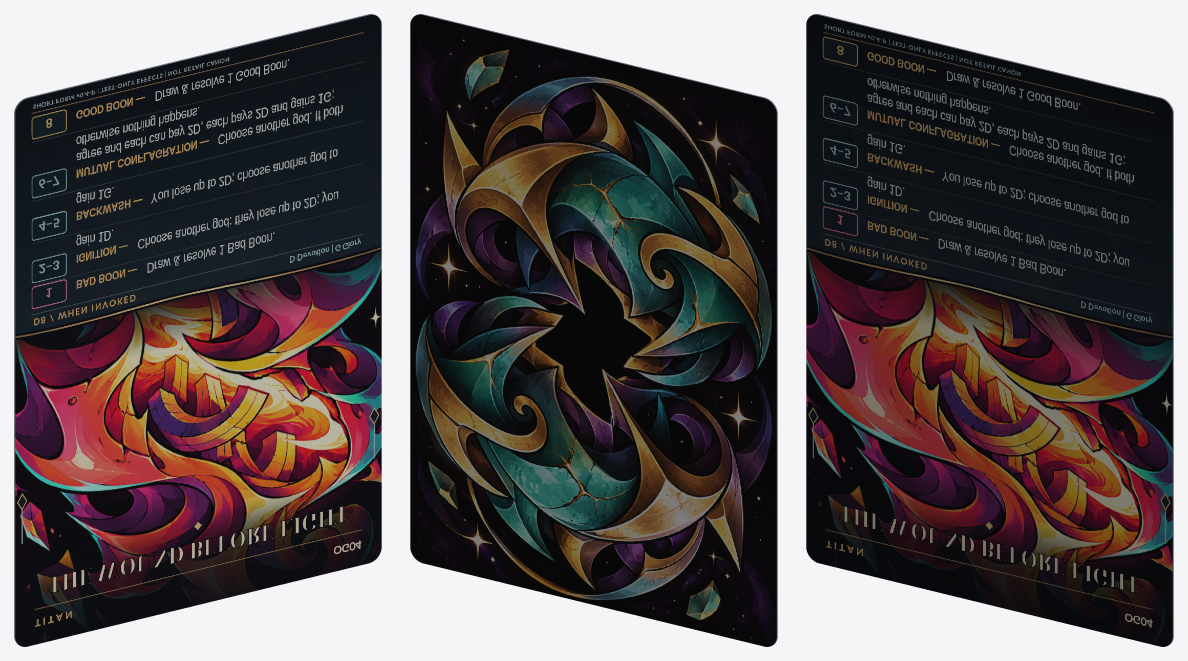
Rendered from SGLD_OG04_The_Wound_Before_Light_3D_Card_v0.1-P_UNAPPROVED.glb.
3 renders of one model, left to right at view 1: azimuth 30°, elevation 25°; view 2: azimuth 150°, elevation 25°; view 3: azimuth 330°, elevation 25°, orthographic.
Parts seen in each view (by area): view 1: OG04_FRONT, OG04_EDGE; view 2: OG04_BACK, OG04_EDGE; view 3: OG04_FRONT, OG04_EDGE.
Part boxes in pixels (<box>): OG04_FRONT: <box>15,15,381,646</box>; OG04_EDGE: <box>14,14,381,646</box>; OG04_BACK: <box>410,15,776,646</box>; OG04_EDGE: <box>410,14,777,646</box>; OG04_FRONT: <box>806,15,1172,646</box>; OG04_EDGE: <box>806,14,1173,646</box>.
Bounding box in the file's own units: 0.0889 × 0.127 × 0.00035.
3 materials, 2 textured.
